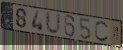4: (30, 9, 44, 34)
5: (79, 17, 93, 41)
6: (64, 15, 76, 38)
8: (15, 8, 28, 30)
C: (94, 20, 109, 43)
U: (45, 11, 63, 37)
